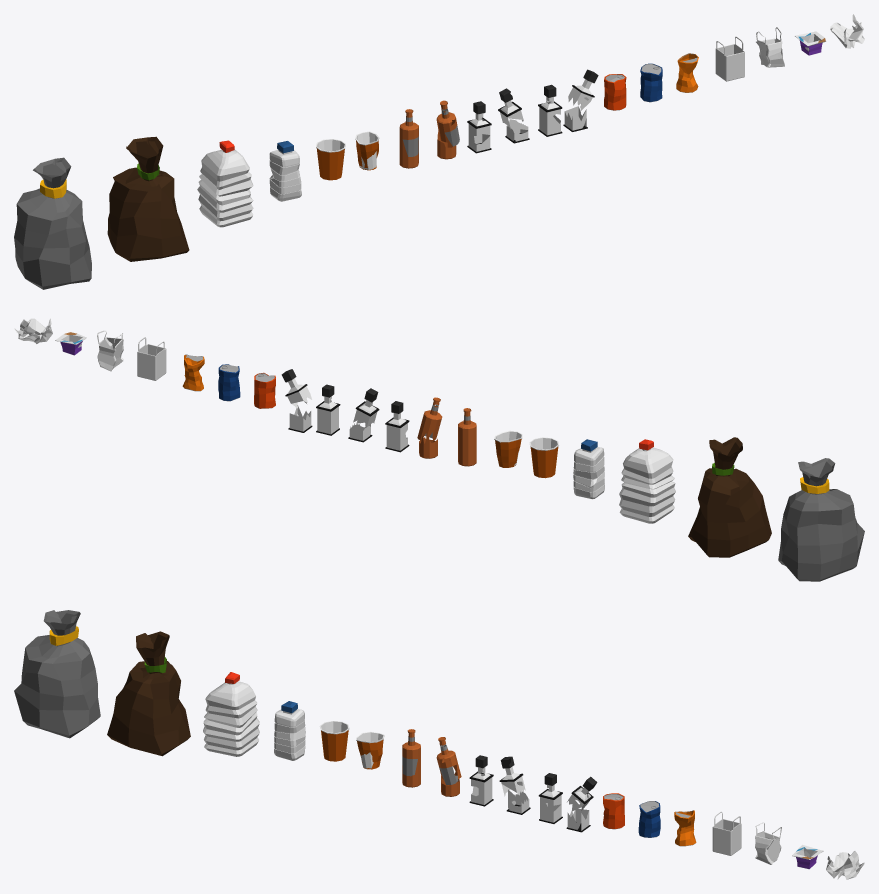
Rendered from uploads_files_3984600_Trash.fbx.
3 renders of one model, top to bottom at view 1: azimuth 30°, elevation 25°; view 2: azimuth 150°, elevation 25°; view 3: azimuth 330°, elevation 25°, orthographic.
Visible parts, largest first — view 1: TrashBag_1, TrashBag_2, Bottle_Big, Bottle, WineBottleDamaged_Purple, Plasticbag_Undamaged, paperCup_Undamaged, KetchupBottle_Damaged, KetchupBottle_Undamaged, WineBottleDamaged_Green, WineBottle_Green, WineBottle_Purple (+6 smaller); view 2: TrashBag_1, TrashBag_2, Bottle_Big, Bottle, WineBottleDamaged_Purple, Plasticbag_Undamaged, paperCup_Undamaged, KetchupBottle_Damaged, KetchupBottle_Undamaged, WineBottleDamaged_Green, WineBottle_Purple, WineBottle_Green (+6 smaller); view 3: TrashBag_1, TrashBag_2, Bottle_Big, Bottle, WineBottleDamaged_Green, Plasticbag_Undamaged, paperCup_Undamaged, WineBottleDamaged_Purple, KetchupBottle_Damaged, KetchupBottle_Undamaged, WineBottle_Purple, WineBottle_Green (+6 smaller).
Boxes of the visible parts, <box> form: TrashBag_1: <box>14,157,91,289</box>; TrashBag_2: <box>107,136,189,261</box>; Bottle_Big: <box>197,140,253,227</box>; Bottle: <box>269,141,301,201</box>; WineBottleDamaged_Purple: <box>563,69,598,131</box>; Plasticbag_Undamaged: <box>715,36,744,81</box>; paperCup_Undamaged: <box>316,139,345,180</box>; KetchupBottle_Damaged: <box>436,100,459,159</box>; KetchupBottle_Undamaged: <box>399,109,418,168</box>; WineBottleDamaged_Green: <box>498,88,529,143</box>; WineBottle_Green: <box>467,101,491,153</box>; WineBottle_Purple: <box>538,84,562,136</box>; TrashBag_1: <box>778,458,864,581</box>; TrashBag_2: <box>688,437,771,557</box>; Bottle_Big: <box>619,439,675,523</box>; Bottle: <box>573,439,604,499</box>; WineBottleDamaged_Purple: <box>281,369,312,432</box>; Plasticbag_Undamaged: <box>137,337,166,380</box>; paperCup_Undamaged: <box>529,437,558,478</box>; KetchupBottle_Damaged: <box>417,397,442,458</box>; KetchupBottle_Undamaged: <box>458,408,476,466</box>; WineBottleDamaged_Green: <box>348,388,379,442</box>; WineBottle_Purple: <box>316,384,340,435</box>; WineBottle_Green: <box>385,401,409,452</box>; TrashBag_1: <box>14,610,100,738</box>; TrashBag_2: <box>107,631,190,756</box>; Bottle_Big: <box>203,672,259,756</box>; Bottle: <box>274,701,305,760</box>; WineBottleDamaged_Green: <box>499,756,530,814</box>; Plasticbag_Undamaged: <box>712,811,741,855</box>; paperCup_Undamaged: <box>320,721,349,761</box>; WineBottleDamaged_Purple: <box>566,776,597,832</box>; KetchupBottle_Damaged: <box>436,737,461,796</box>; KetchupBottle_Undamaged: <box>402,729,420,787</box>; WineBottle_Purple: <box>538,773,562,823</box>; WineBottle_Green: <box>469,755,493,806</box>.
Bounding box in the file's own units: 3080 × 390 × 266.
